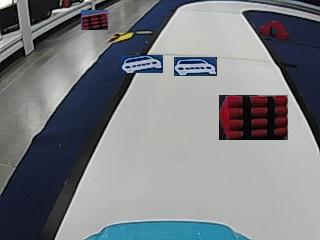bridge: (262, 21, 290, 40)
